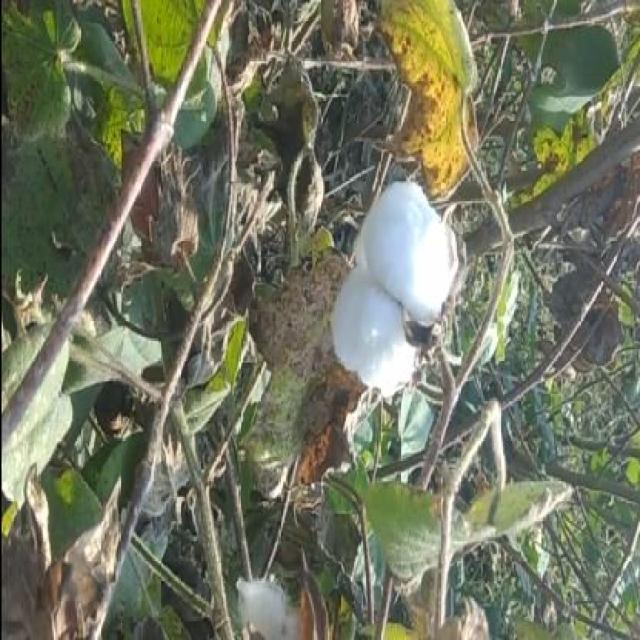cotton_ready: (325, 199, 461, 430)
